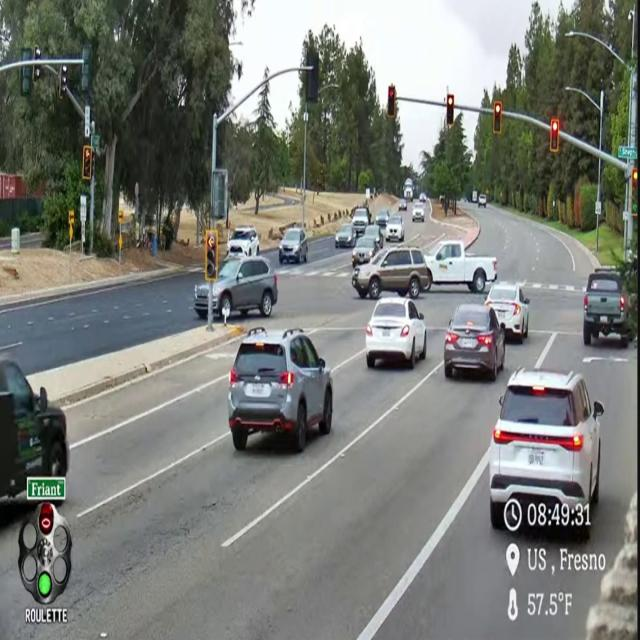car: (489, 368, 603, 537), (228, 328, 332, 452), (0, 360, 69, 498), (444, 304, 505, 381), (366, 298, 426, 367), (213, 256, 277, 318), (352, 247, 427, 299), (486, 282, 529, 343), (279, 227, 308, 264), (226, 226, 260, 256), (352, 235, 379, 267), (352, 208, 370, 237), (385, 214, 404, 241), (335, 224, 356, 247), (364, 224, 383, 249), (375, 210, 389, 228), (412, 204, 424, 222), (478, 194, 486, 207), (398, 199, 407, 210), (419, 192, 426, 202)
traffic signal: (306, 48, 319, 103), (205, 230, 218, 281), (81, 45, 91, 91), (20, 66, 32, 96), (82, 145, 92, 181), (58, 65, 68, 99), (387, 85, 396, 119), (632, 167, 638, 218), (493, 101, 502, 135), (550, 119, 559, 152), (446, 94, 454, 126), (32, 64, 40, 82), (632, 167, 638, 190)
truck: (583, 268, 632, 347), (424, 240, 497, 293), (352, 208, 371, 237), (403, 178, 414, 201), (472, 191, 477, 203)
